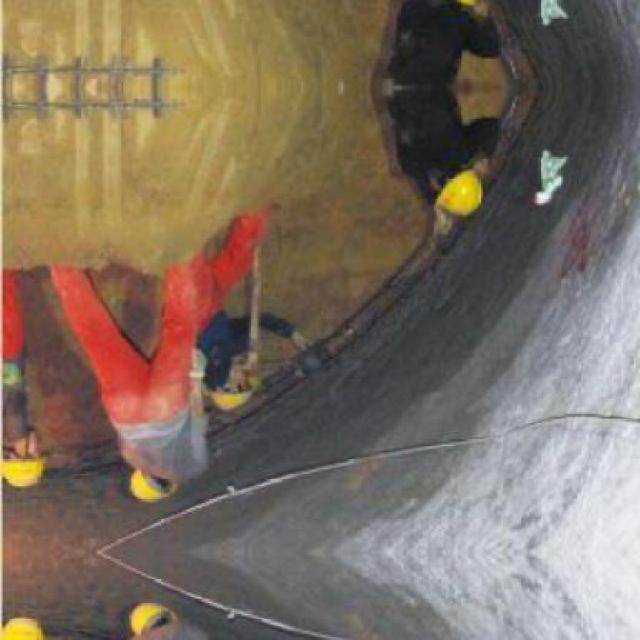con casco: (412, 157, 507, 251), (95, 458, 191, 516), (189, 343, 248, 424), (0, 430, 44, 505)
